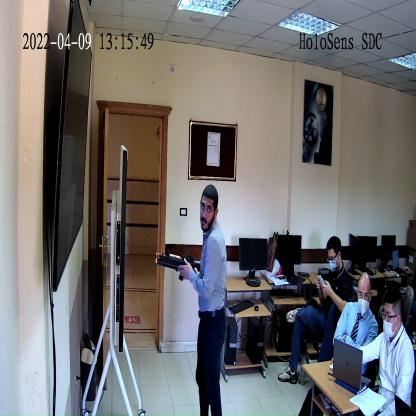handgun: (159, 252, 202, 282)
